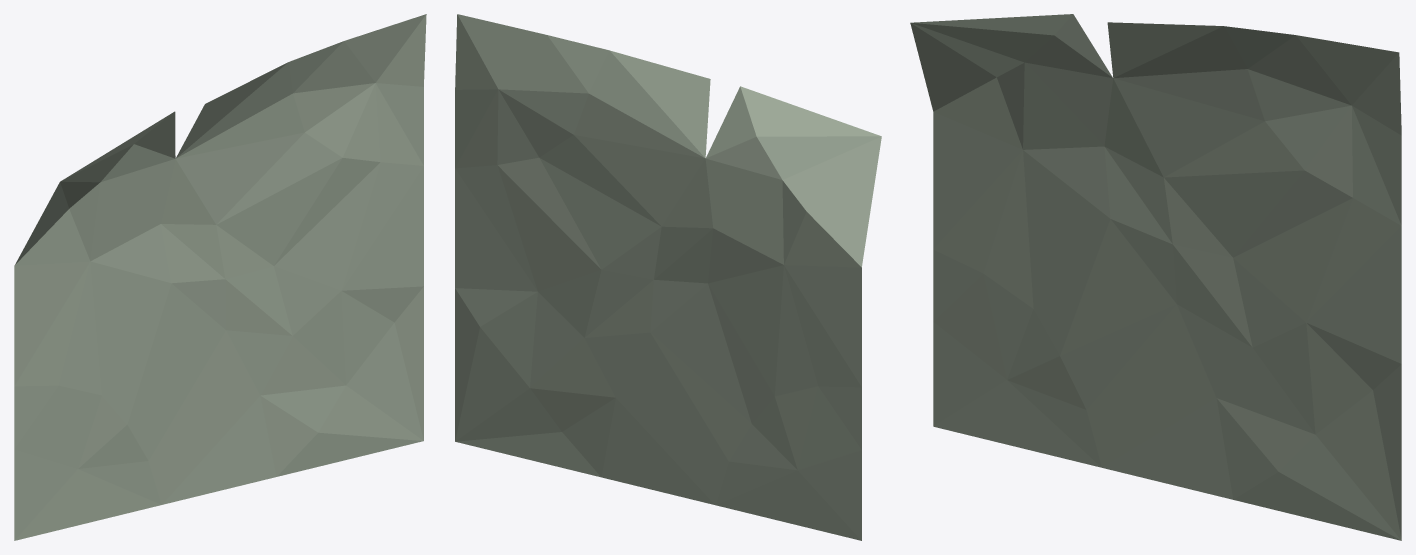
Rendered from Wallpapper_02.fbx.
3 renders of one model, left to right at view 1: azimuth 30°, elevation 25°; view 2: azimuth 150°, elevation 25°; view 3: azimuth 330°, elevation 25°, orthographic. The views are drawn at different scales.
Parts seen in each view (by area): view 1: Wallpapper_02; view 2: Wallpapper_02; view 3: Wallpapper_02.
Part boxes in pixels (x1=…): Wallpapper_02: x1=14, y1=14, x2=426, y2=540; Wallpapper_02: x1=455, y1=14, x2=881, y2=540; Wallpapper_02: x1=910, y1=14, x2=1401, y2=540.
Bounding box in the file's own units: 100 × 100 × 14.87.
1 material, 1 textured.
